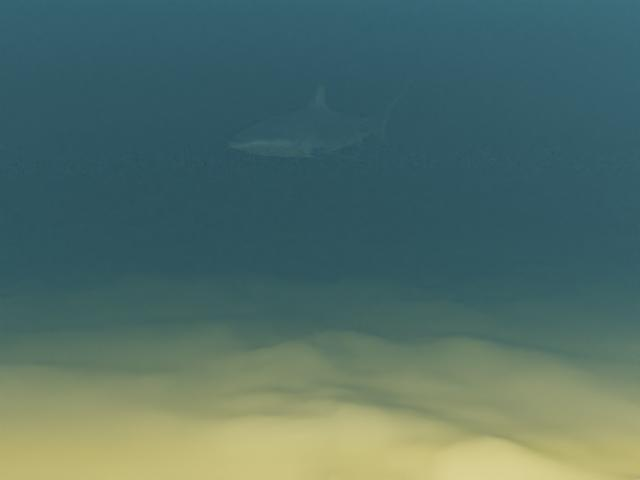Carribean Shark.001: (228, 79, 413, 162)
